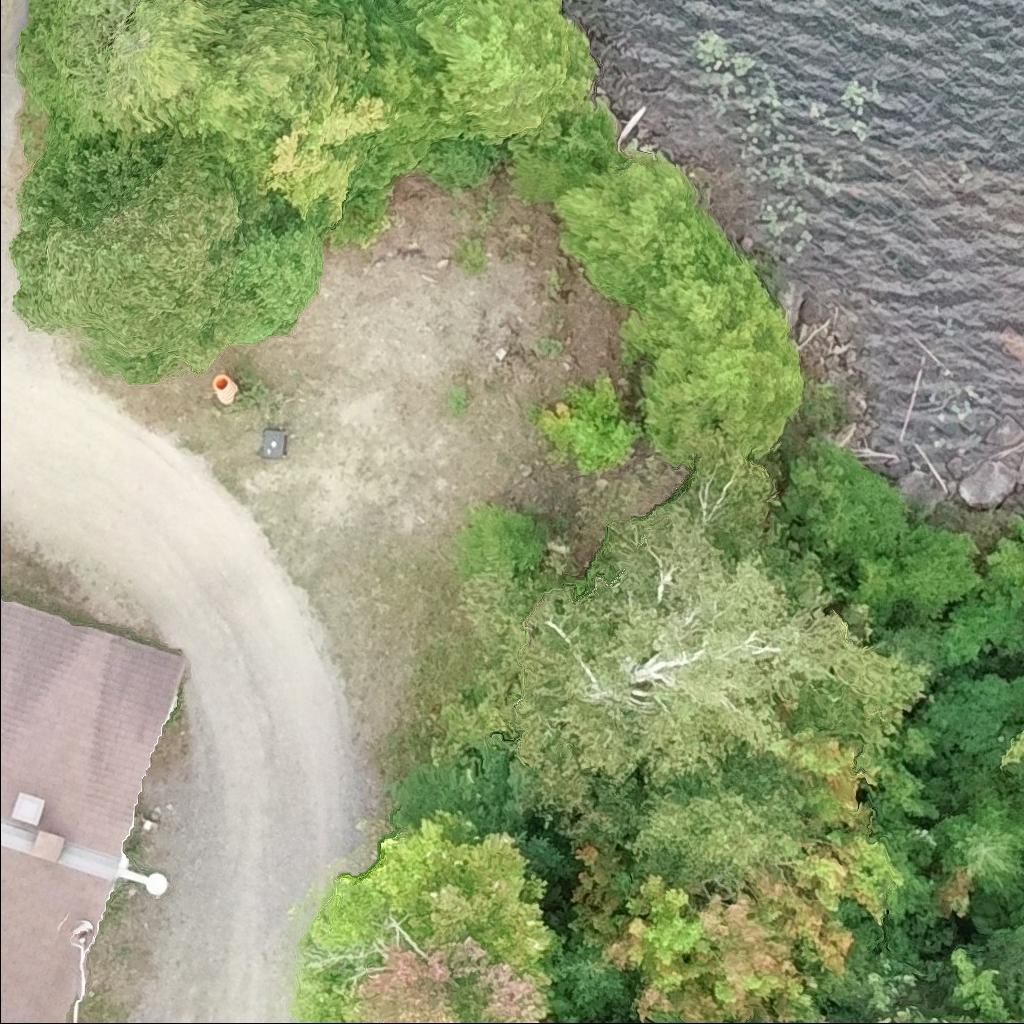crown: (488, 457, 928, 824), (575, 726, 902, 1023), (555, 154, 802, 475), (8, 132, 245, 370), (293, 817, 550, 1023), (24, 0, 369, 152), (633, 746, 836, 900), (417, 0, 597, 142), (266, 76, 394, 221)
